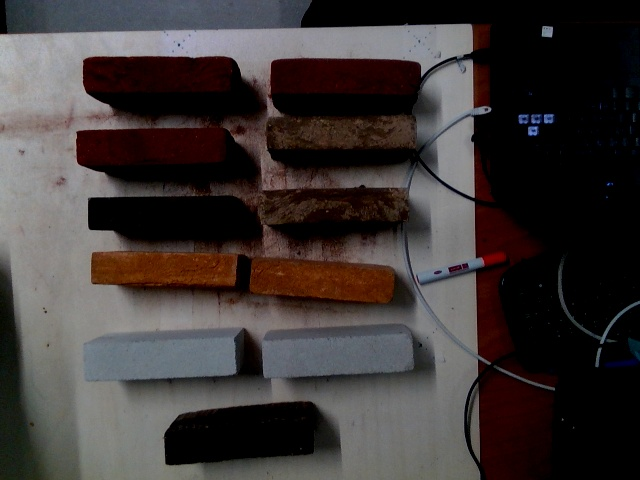brick-side: (161, 419, 312, 466), (261, 334, 411, 378), (77, 125, 226, 168), (84, 337, 233, 379), (269, 56, 417, 97), (85, 56, 234, 94), (248, 261, 389, 300), (90, 250, 235, 287), (260, 188, 402, 225), (266, 114, 411, 150), (85, 195, 234, 229)
